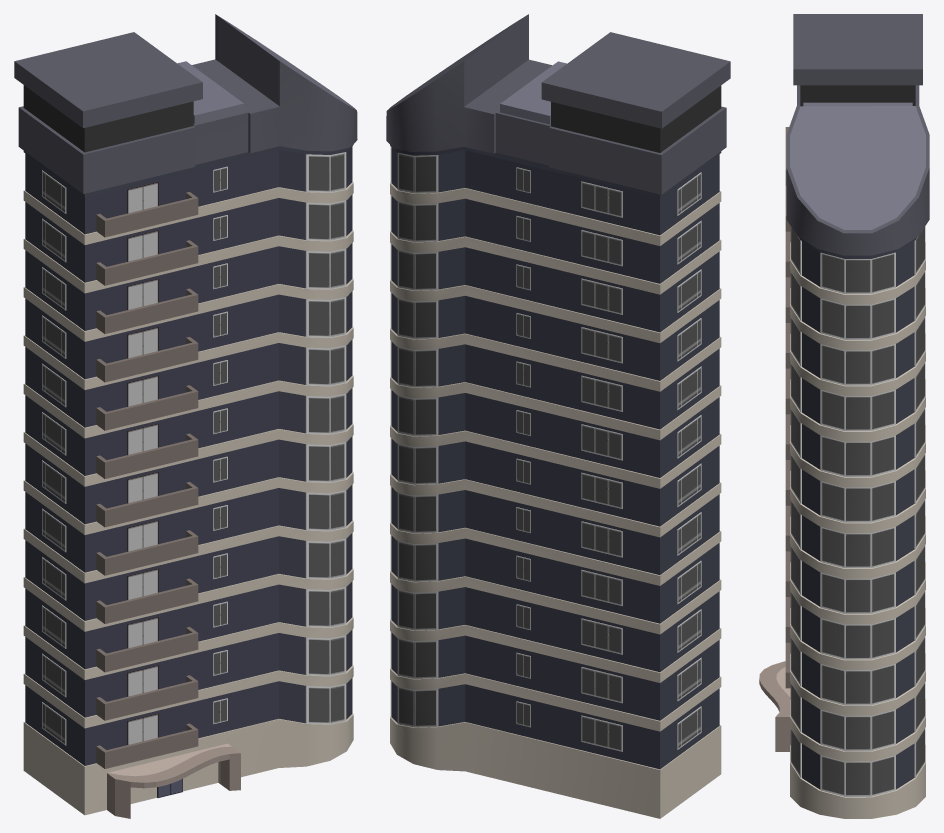
Rendered from buildin10.fbx.
3 renders of one model, left to right at view 1: azimuth 30°, elevation 25°; view 2: azimuth 150°, elevation 25°; view 3: azimuth 270°, elevation 25°, orthographic. The views are drawn at different scales.
Parts seen in each view (by area): view 1: Building10; view 2: Building10; view 3: Building10.
Boxes of the visible parts, x1,y1,x2,y2 form: Building10: (14, 14, 357, 818); Building10: (386, 14, 730, 818); Building10: (759, 14, 929, 818).
Bounding box in the file's own units: 2466 × 5625 × 1297.
